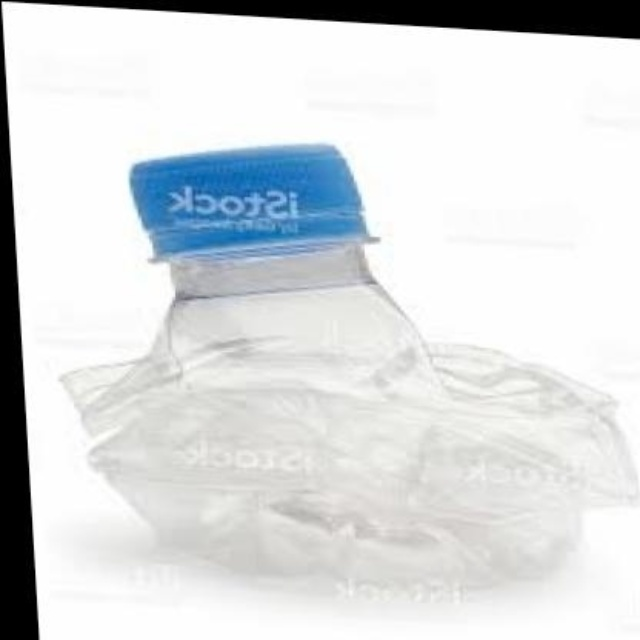trash: (63, 145, 635, 600)
